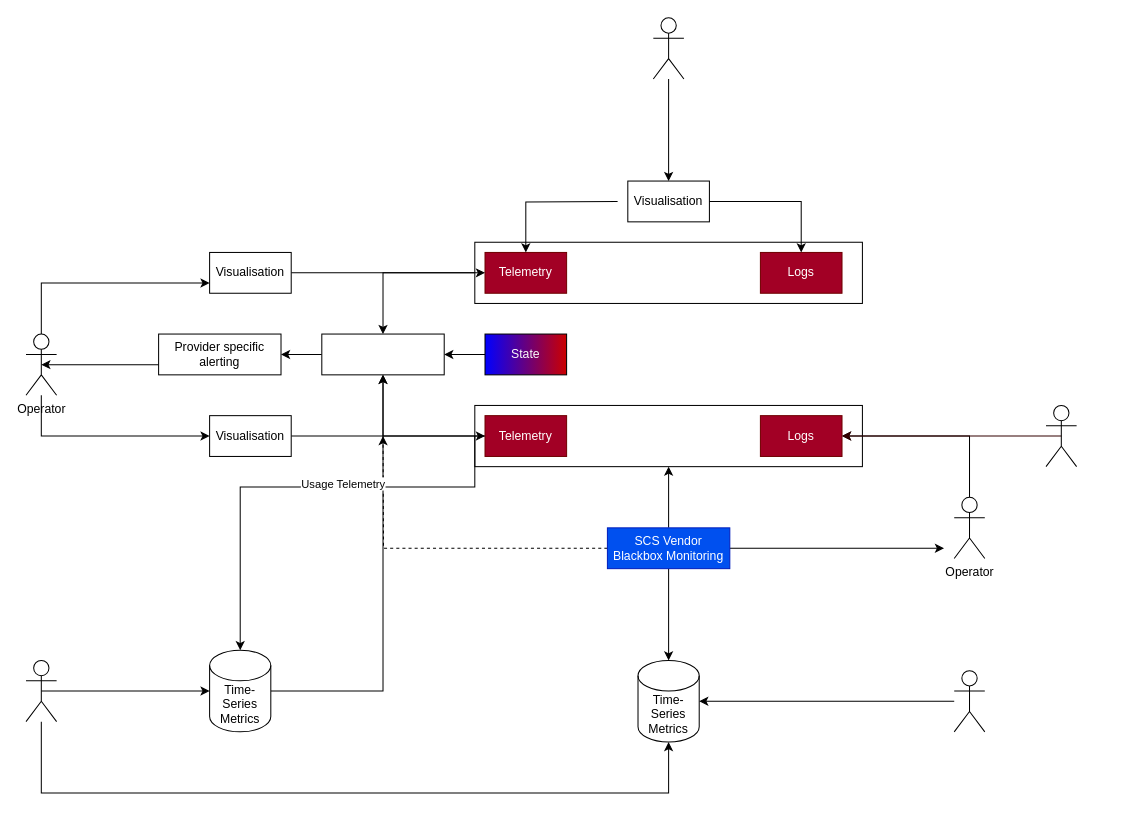
Image size: 1138x819. Some labels were removed from this diagram. Each missing label, with the box of its shape:
Alert Routing: (321, 333, 444, 375)
Container: (474, 241, 862, 303)
Customer: (652, 17, 684, 79)
Infrastructure: (474, 404, 862, 467)
Integrator / Developer: (1045, 404, 1077, 467)
Provider: (25, 659, 57, 722)
Vendor: (953, 670, 985, 732)
